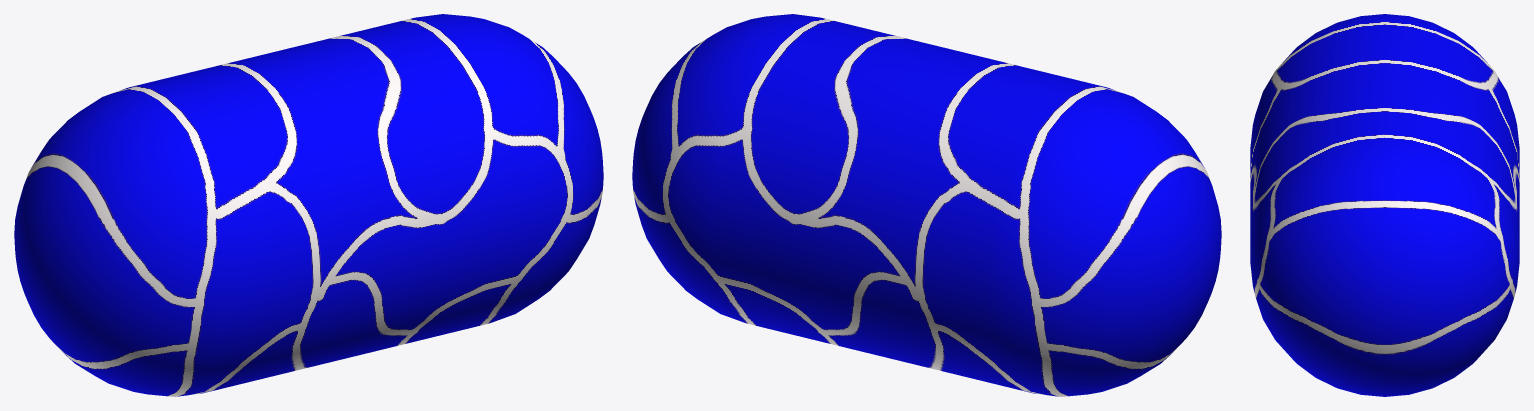
Rendered from block_blue2.glb.
3 views of the same model, side by side, from view 1: azimuth 30°, elevation 25°; view 2: azimuth 150°, elevation 25°; view 3: azimuth 270°, elevation 25° (orthographic). The views are drawn at different scales.
Parts seen in each view (by area): view 1: Sphere; view 2: Sphere; view 3: Sphere.
Boxes of the visible parts, box(x1,y1,x2,y2) form: Sphere: box(14, 14, 603, 396); Sphere: box(632, 14, 1221, 396); Sphere: box(1250, 14, 1519, 396).
Bounding box in the file's own units: 2 × 1 × 1.
Materials: 1 (1 with a texture image).
